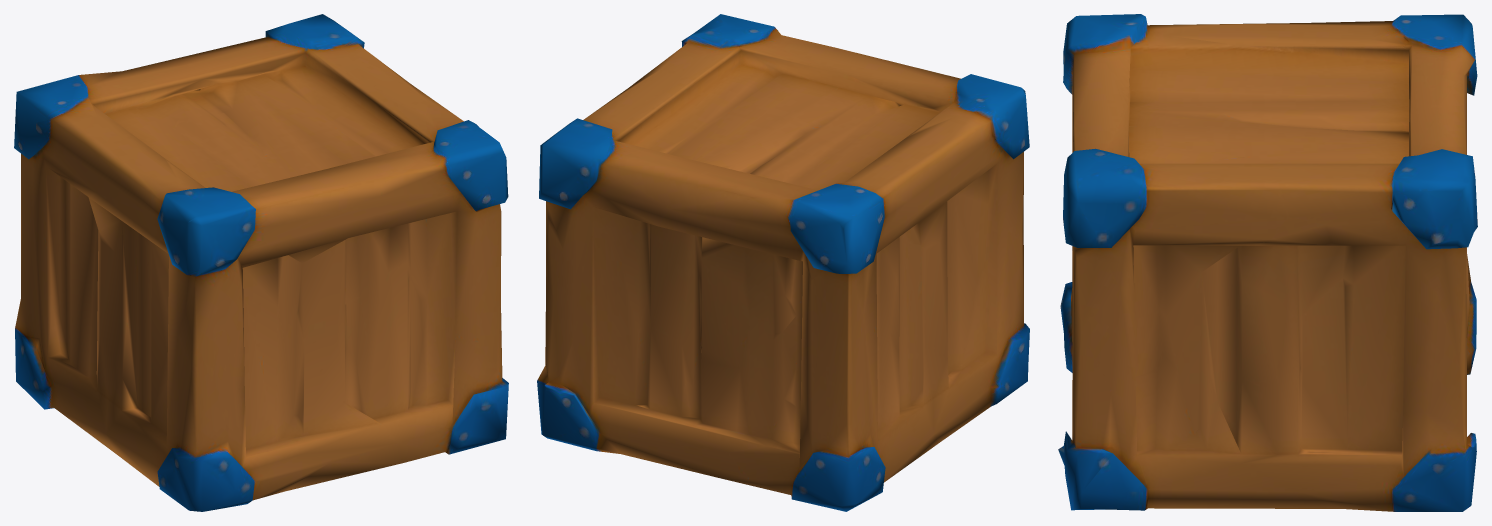
File: crate.glb
3 views of the same model, side by side, from view 1: azimuth 30°, elevation 25°; view 2: azimuth 150°, elevation 25°; view 3: azimuth 270°, elevation 25° (orthographic). The views are drawn at different scales.
Parts seen in each view (by area): view 1: tripo_node_87d22f01-0822-426e-8f7d-9f404407dc6b; view 2: tripo_node_87d22f01-0822-426e-8f7d-9f404407dc6b; view 3: tripo_node_87d22f01-0822-426e-8f7d-9f404407dc6b.
Boxes of the visible parts, x1,y1,x2,y2 form: tripo_node_87d22f01-0822-426e-8f7d-9f404407dc6b: (14,14,508,511); tripo_node_87d22f01-0822-426e-8f7d-9f404407dc6b: (537,14,1029,511); tripo_node_87d22f01-0822-426e-8f7d-9f404407dc6b: (1058,14,1477,511).
Size of the model in its own units: 1 by 0.8864 by 0.9965.
1 material, 1 textured.
